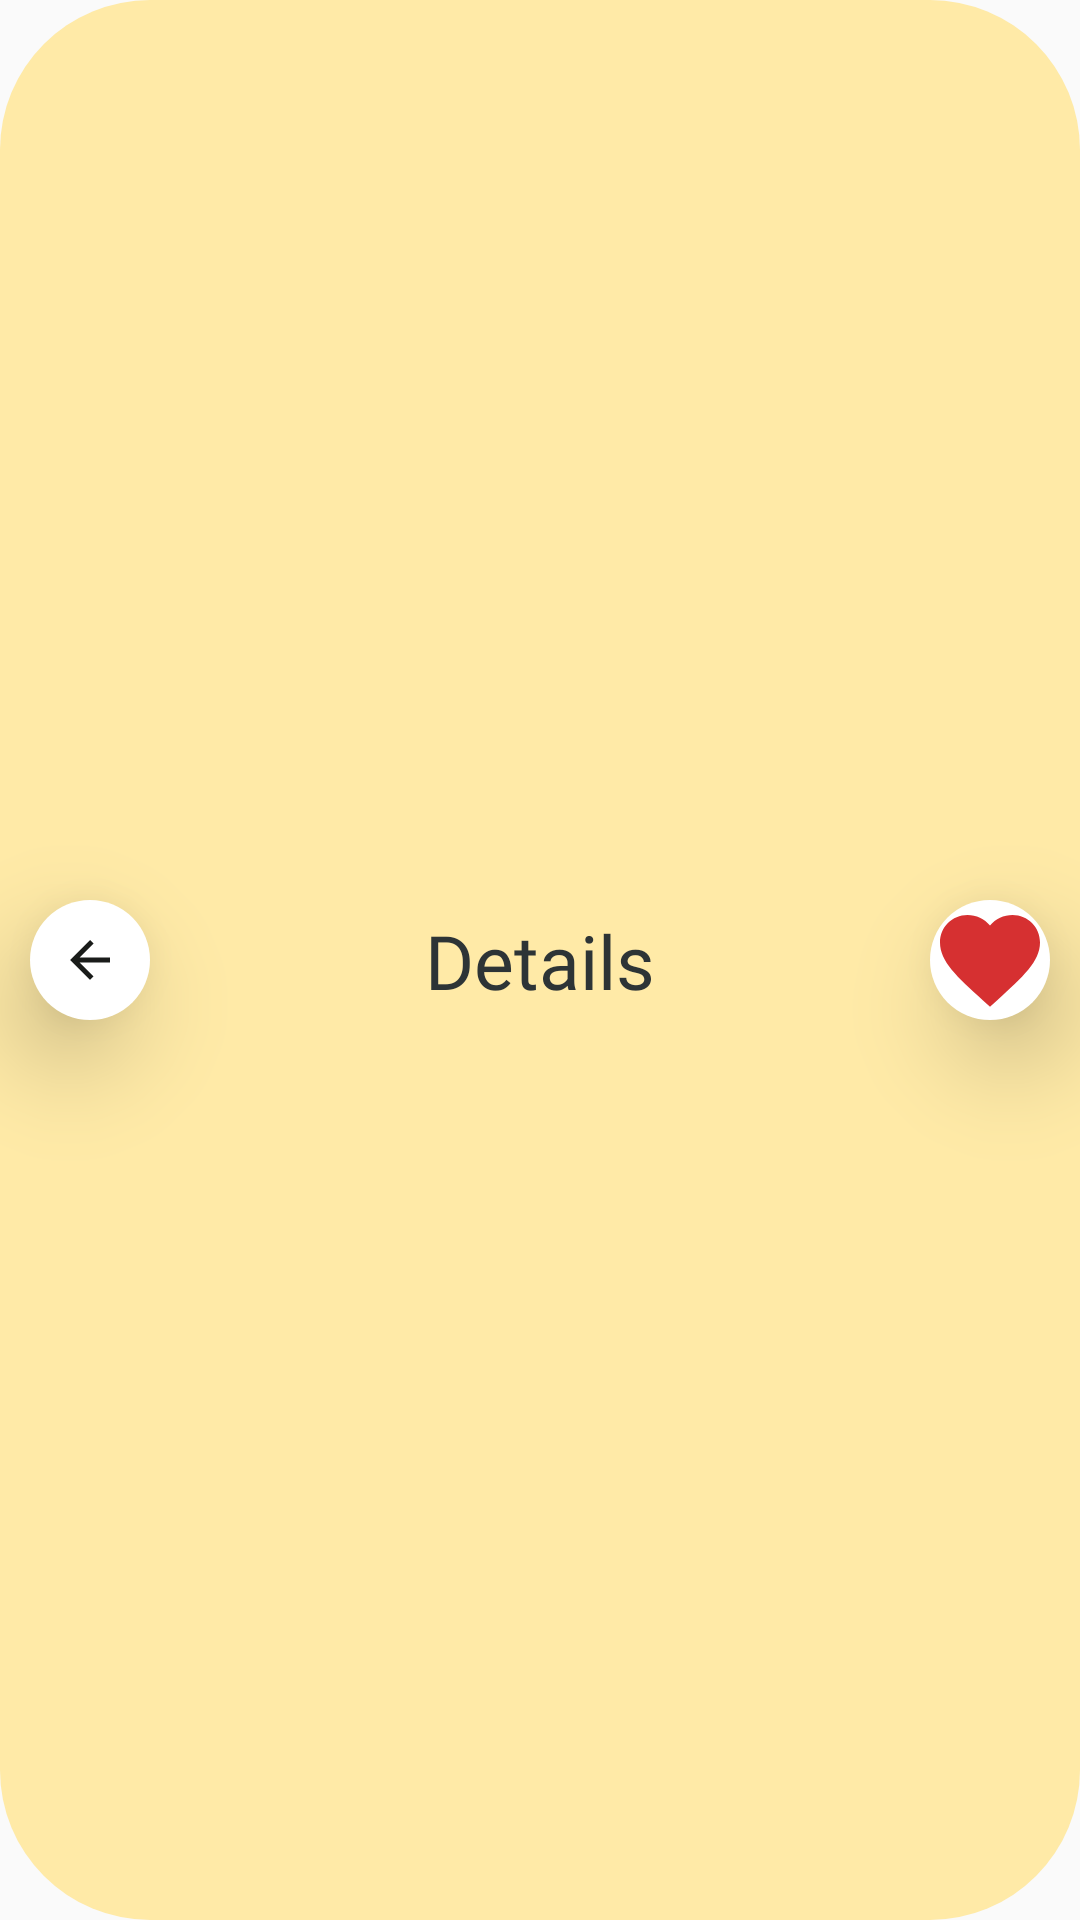

Icons on this 1080px x 1920px Android screen, each with the point to tap as [x,y]:
arrow back: [90,960]
favorite: [990,960]
